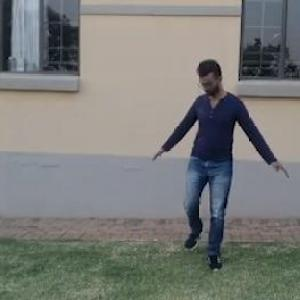land: (132, 46, 284, 274)
